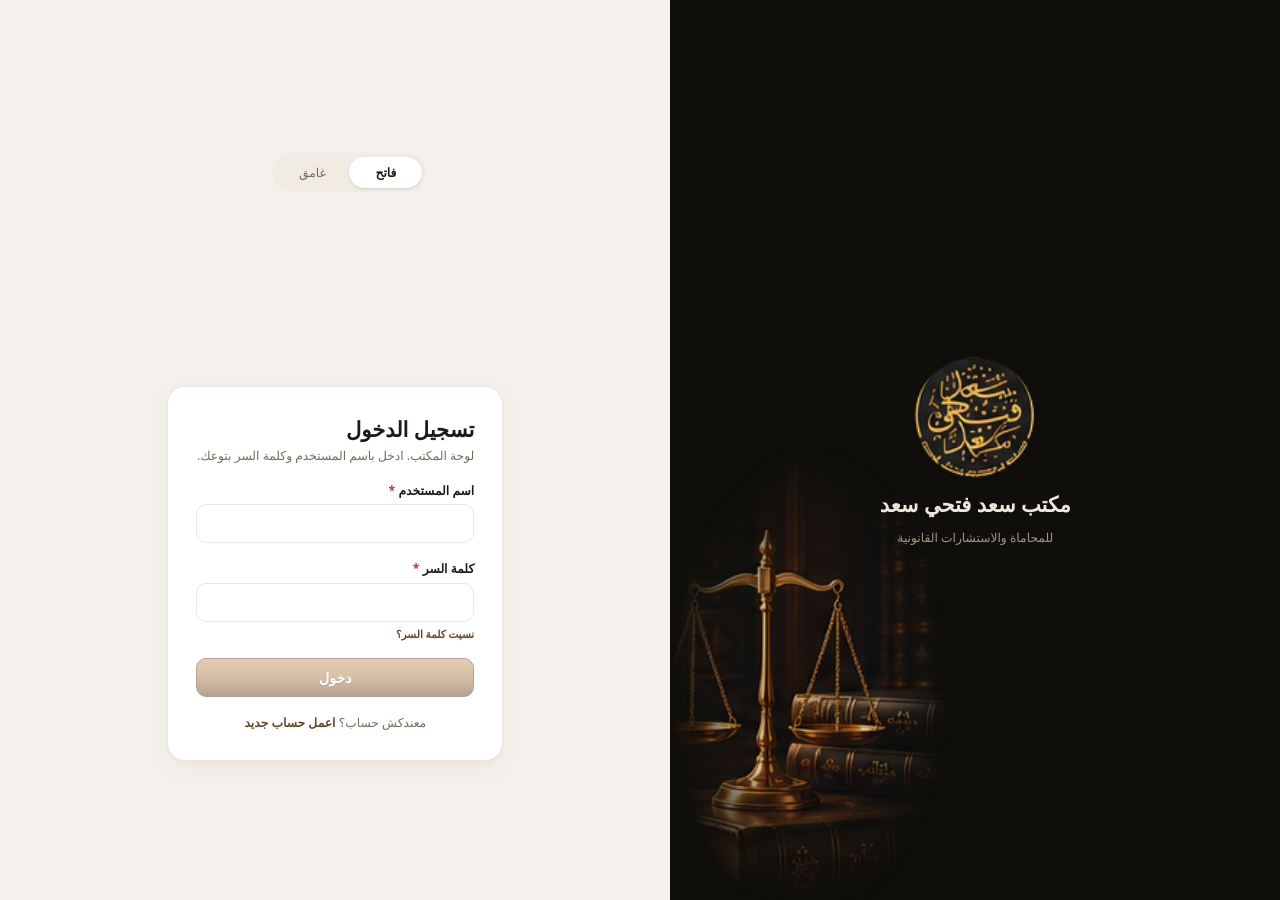
Test case: sign-in, sign-up and the authenticator (v1.9) › asks for the authenticator code after the right password, before any session
Expected: the button "دخول" is shown, [196, 658, 474, 697]
Type "boss" into the field labelled "اسم المستخدم *" at (335, 524), box [196, 504, 474, 543]
Type "a long test password 1" into the password field labelled "كلمة السر *" at (335, 602), box [196, 583, 474, 622]
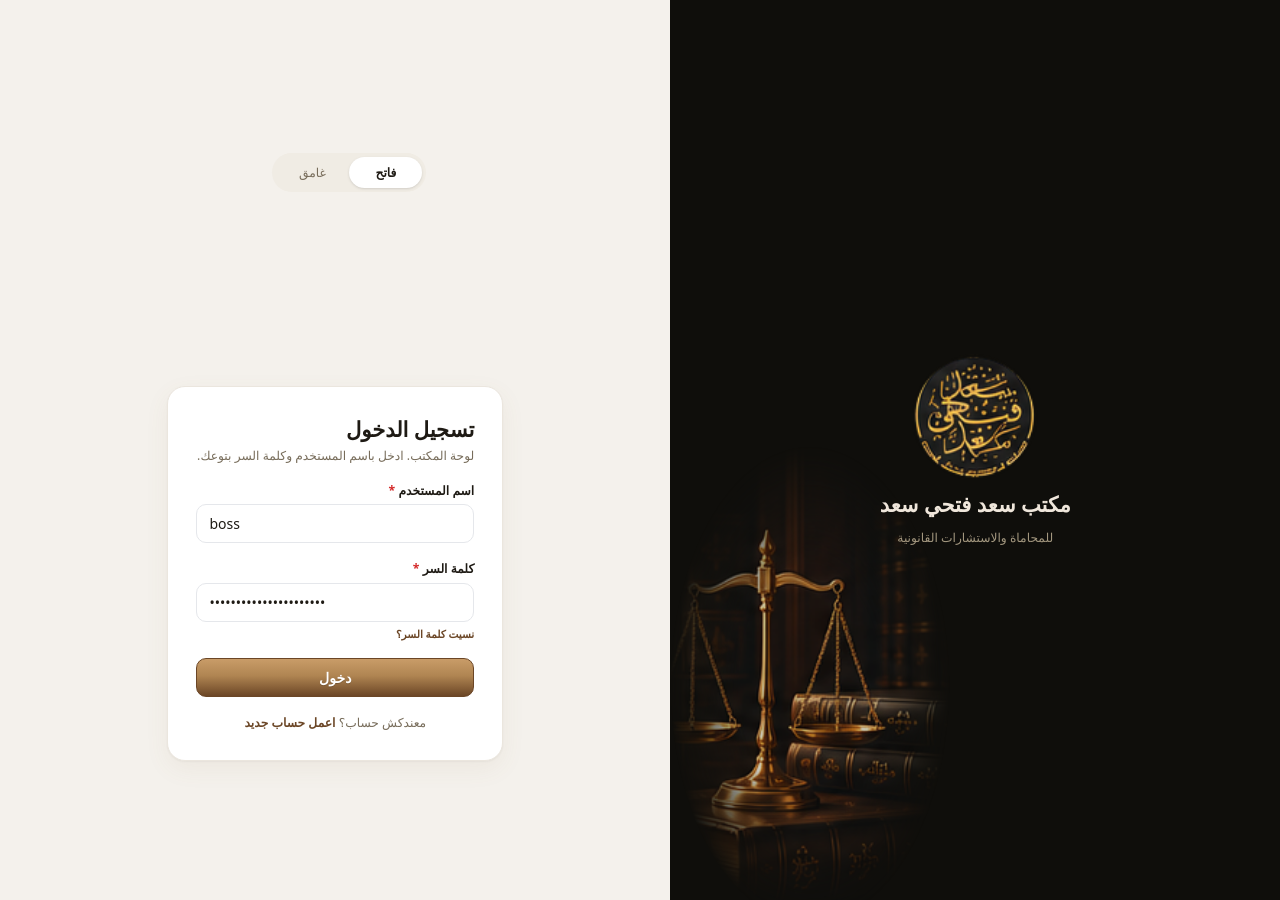
Click the button "دخول" at (335, 678), box [196, 658, 474, 697]
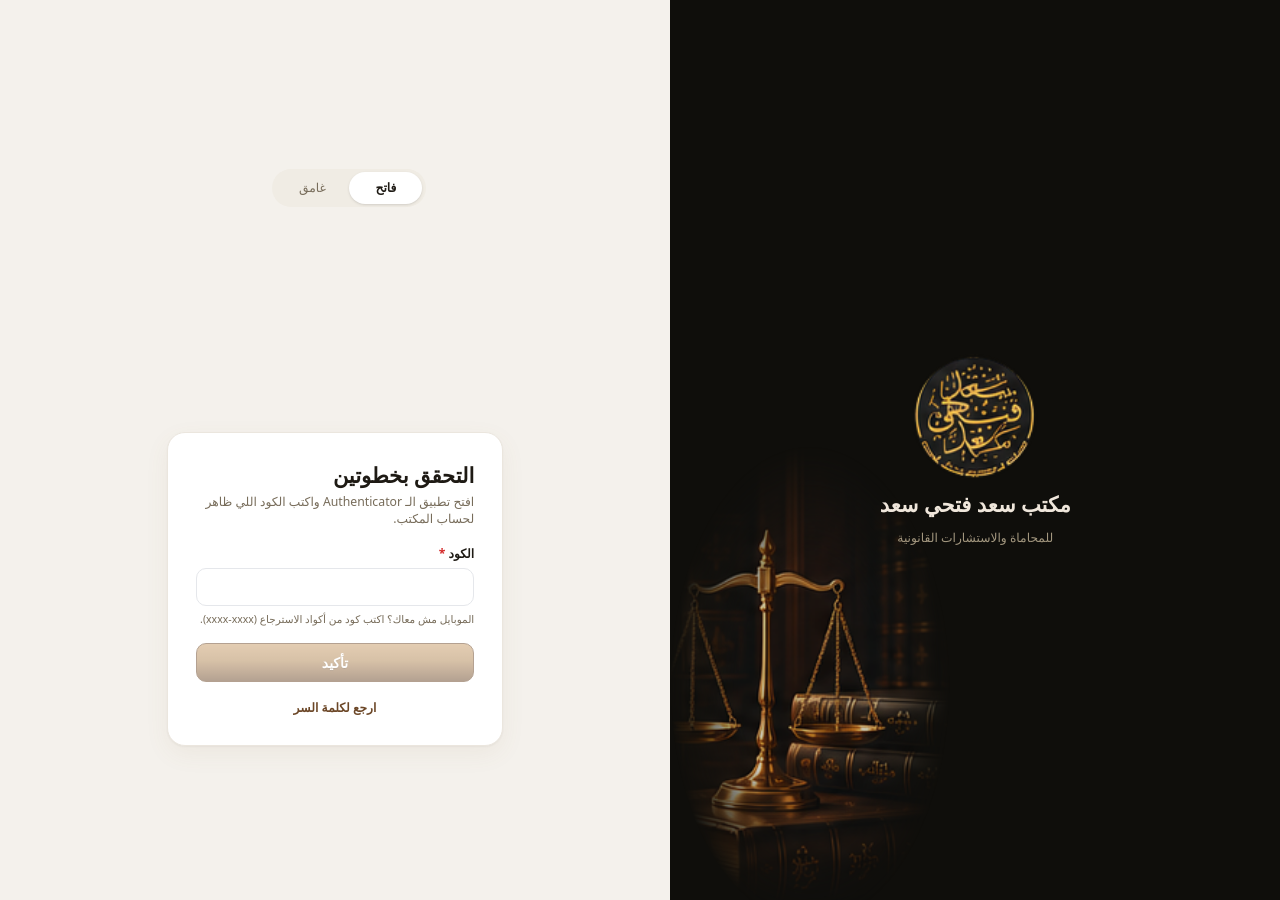
Result: the heading "التحقق بخطوتين" is shown at [333, 461, 474, 489]
Type "000000" into the field labelled "الكود *" at (335, 587), box [196, 568, 474, 606]
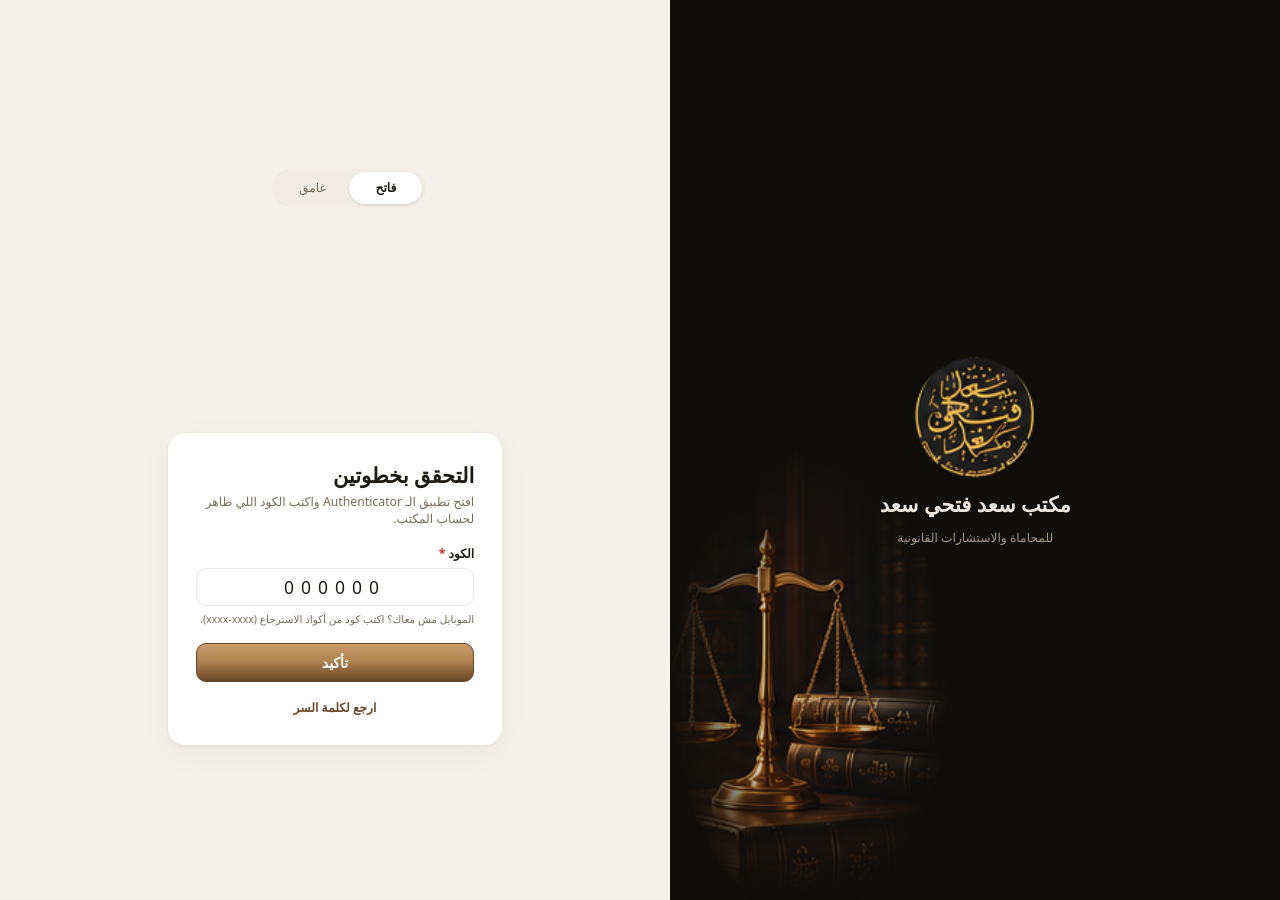
Click the button "تأكيد" at (335, 662), box [196, 643, 474, 682]
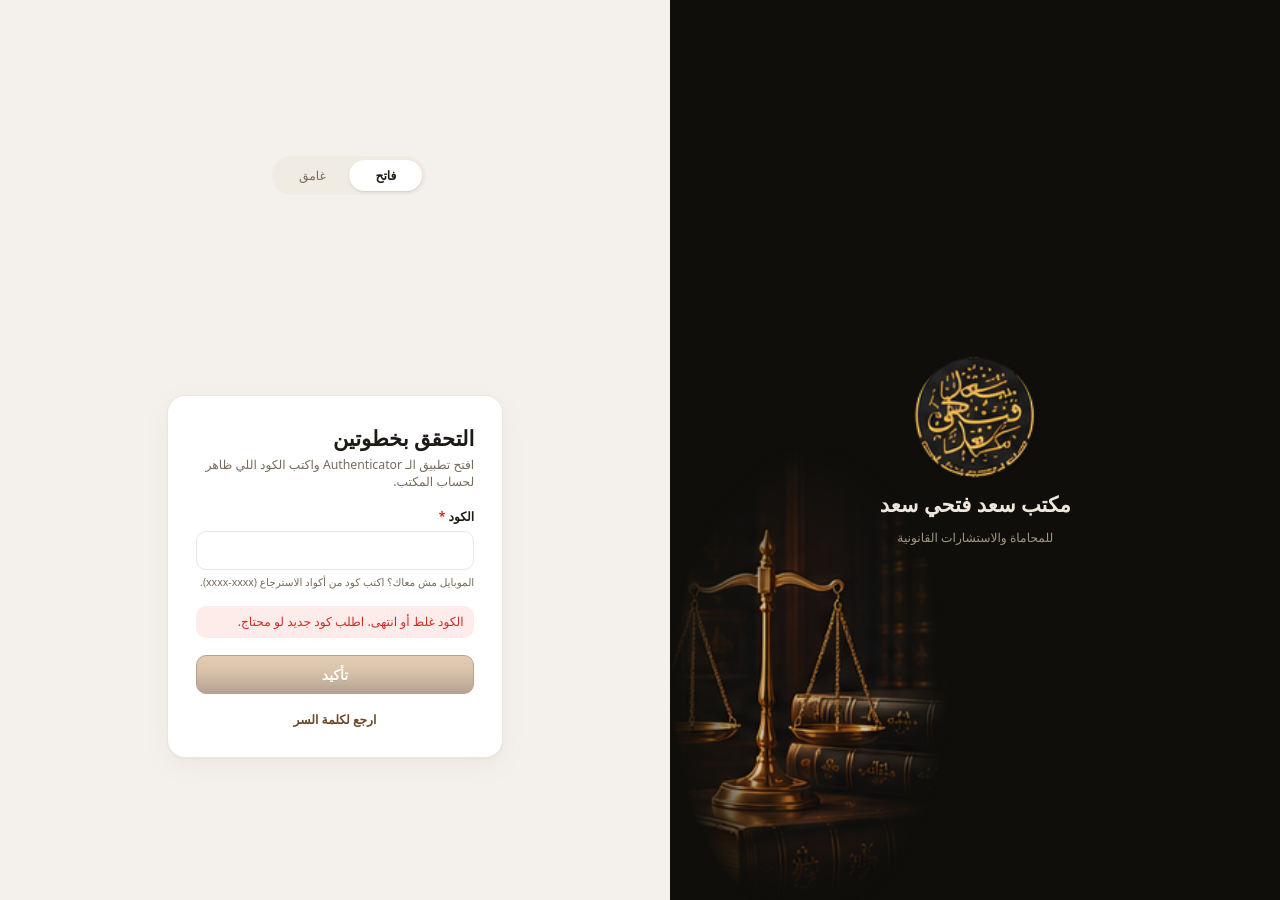
Result: the message shows "الكود غلط" at [238, 613, 464, 630]
Type "123456" into the field labelled "الكود *" at (335, 550), box [196, 531, 474, 570]
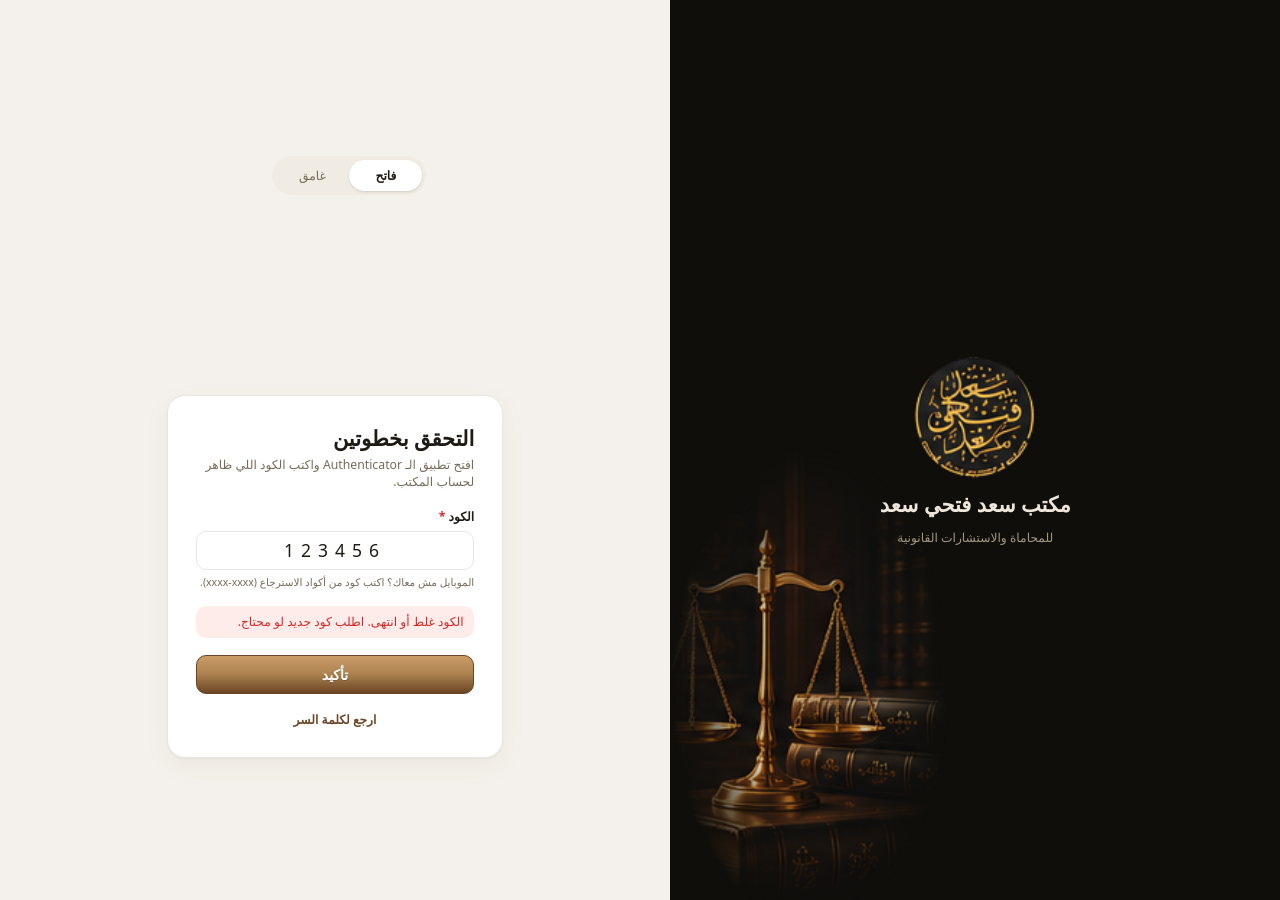
Click the button "تأكيد" at (335, 675), box [196, 655, 474, 694]
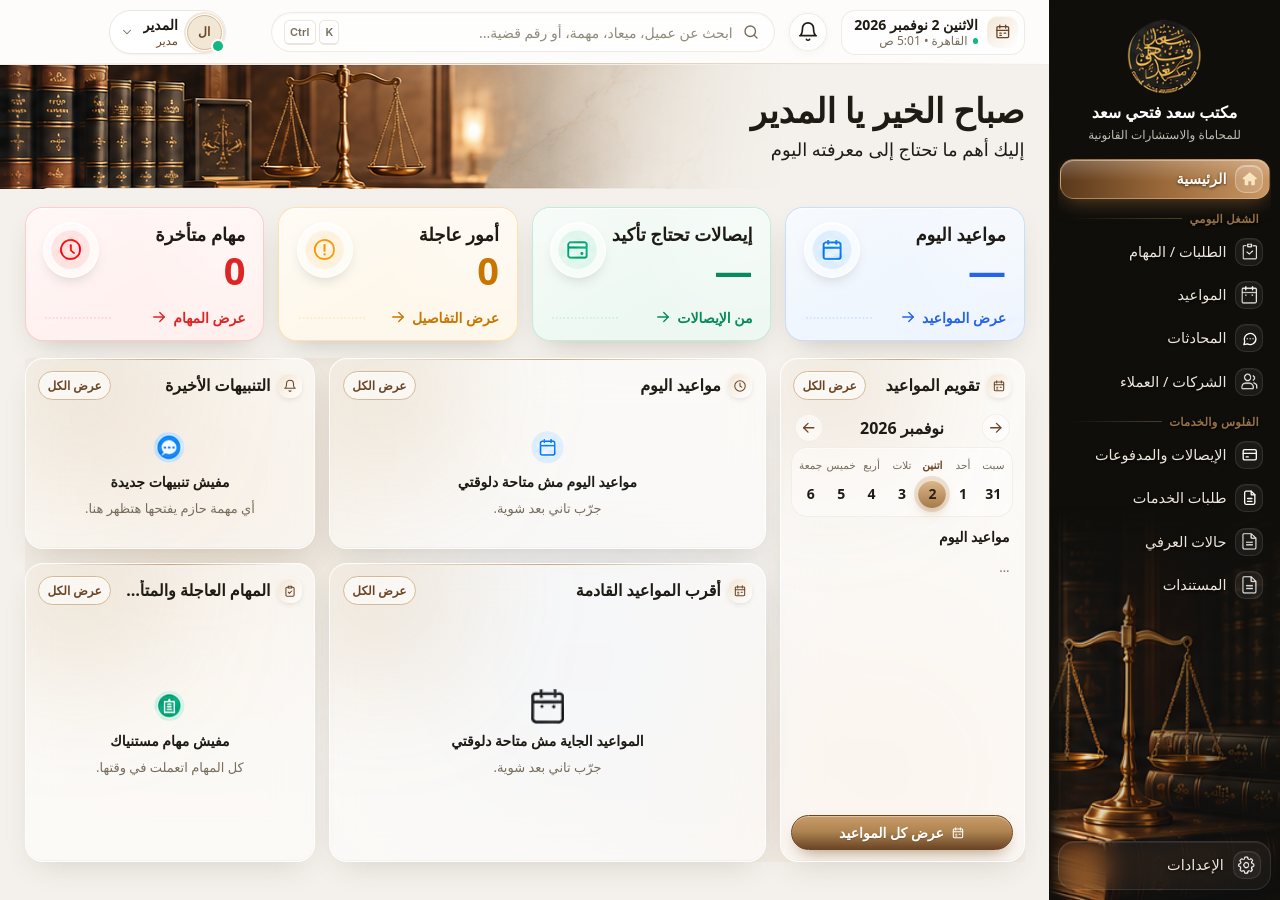
Result: the heading "صباح الخير يا المدير" is shown at [750, 88, 1024, 134]
